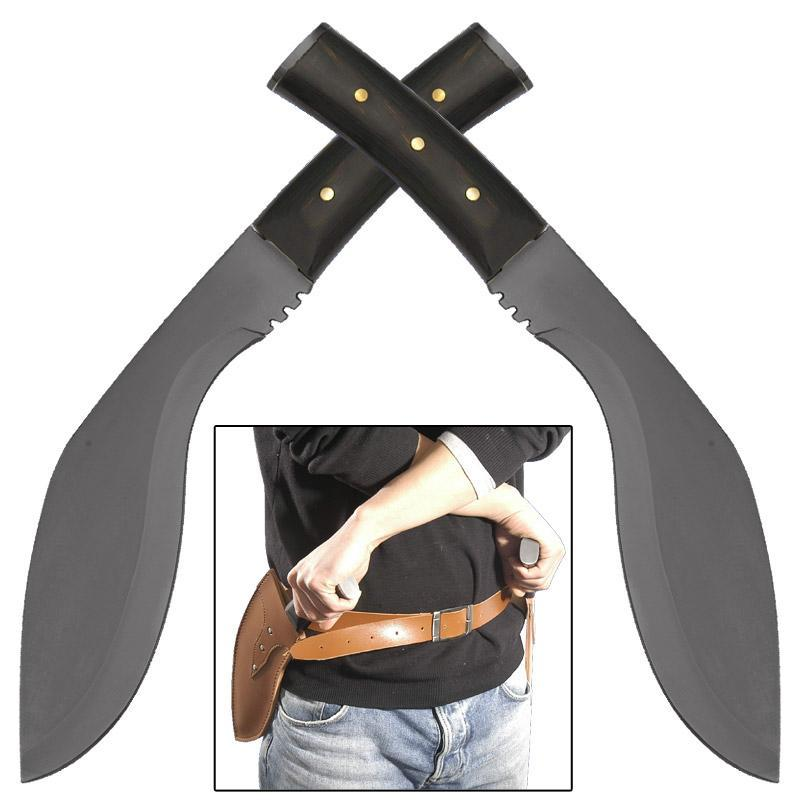facao: (0, 4, 571, 800), (243, 0, 800, 774)
